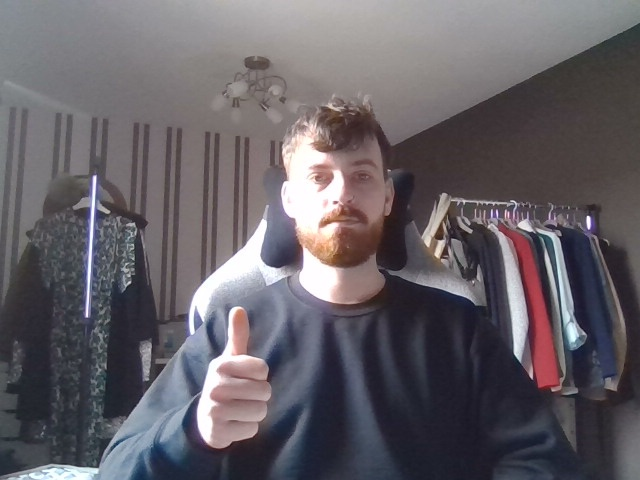Thumbs Up: (198, 300, 276, 446)
